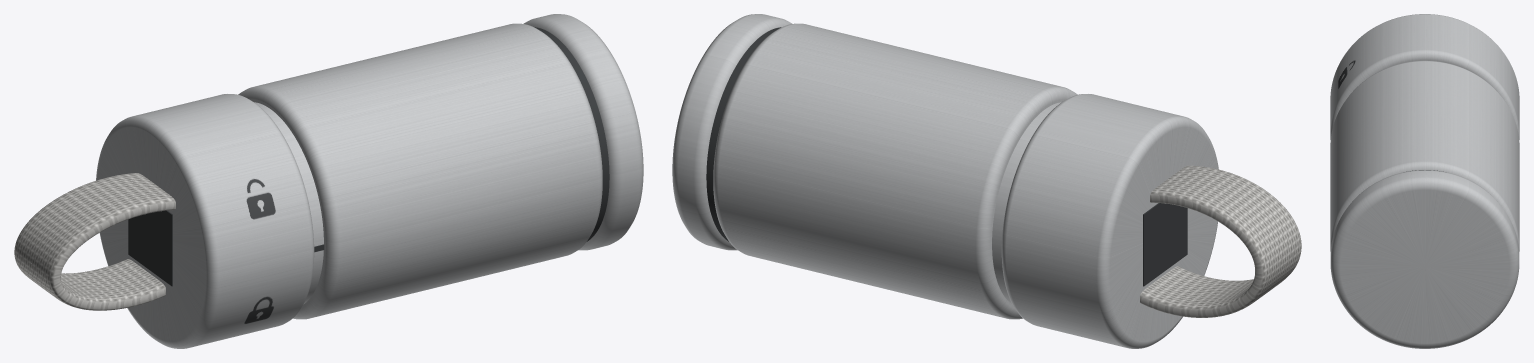
File: metal-capsule.glb
3 renders of one model, left to right at view 1: azimuth 30°, elevation 25°; view 2: azimuth 150°, elevation 25°; view 3: azimuth 270°, elevation 25°, orthographic. The views are drawn at different scales.
Parts seen in each view (by area): view 1: Main barrel, Locking collar, Continuous woven pull loop, Rear end cap, Loop slot, Recessed collar sleeve, Rear seam; view 2: Main barrel, Locking collar, Continuous woven pull loop, Rear end cap, Loop slot, Recessed collar sleeve, Rear seam; view 3: Rear end cap, Main barrel, Locking collar.
Boxes of the visible parts, x1,y1,x2,y2 form: Main barrel: (238,23,602,319); Locking collar: (96,94,314,348); Continuous woven pull loop: (14,173,175,310); Rear end cap: (523,14,643,250); Loop slot: (128,210,172,286); Recessed collar sleeve: (254,102,323,304); Rear seam: (534,27,609,241); Main barrel: (713,23,1077,319); Locking collar: (1001,94,1218,348); Continuous woven pull loop: (1140,165,1301,317); Rear end cap: (672,14,792,250); Loop slot: (1143,203,1187,286); Recessed collar sleeve: (992,102,1061,304); Rear seam: (706,27,781,241); Rear end cap: (1330,170,1519,348); Main barrel: (1330,60,1519,251); Locking collar: (1330,14,1519,139).
Size of the model in its own units: 0.081 by 0.03 by 0.03.
Materials: 4 (3 with a texture image).
